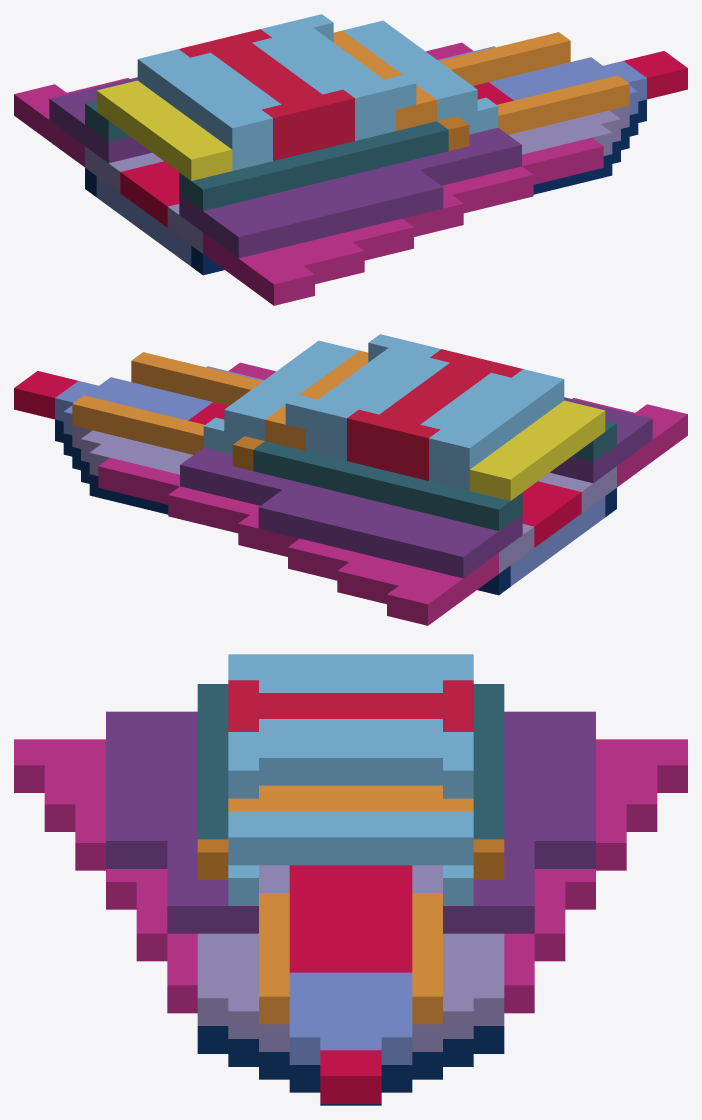
File: Enemy.obj
3 views of the same model, one above another, from view 1: azimuth 30°, elevation 25°; view 2: azimuth 150°, elevation 25°; view 3: azimuth 270°, elevation 25° (orthographic). The views are drawn at different scales.
Bounding box in the file's own units: 2.6 × 0.6 × 2.2.
Materials: 1 (1 with a texture image).
